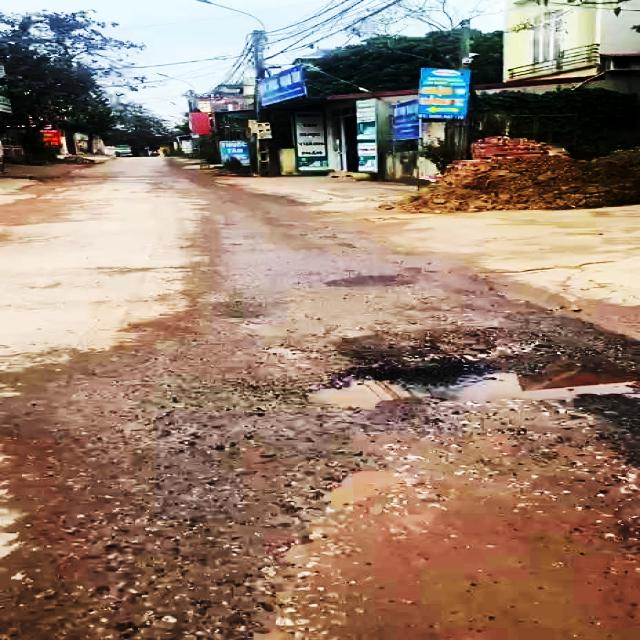pothole: (271, 329, 640, 640)
